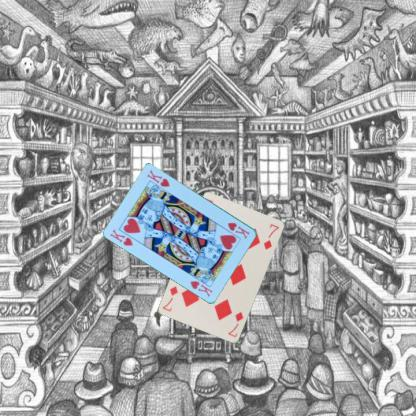7d: (226, 309, 244, 339)
Kh: (225, 219, 251, 240), (108, 226, 134, 247)
